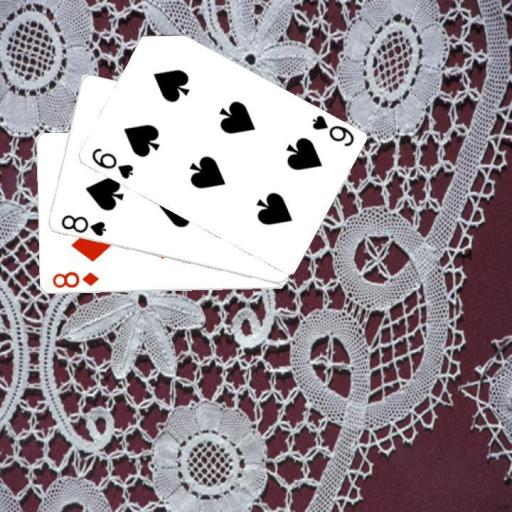6S: (88, 144, 135, 181), (308, 112, 355, 149)
8D: (49, 269, 100, 289)
8S: (58, 212, 108, 238)
